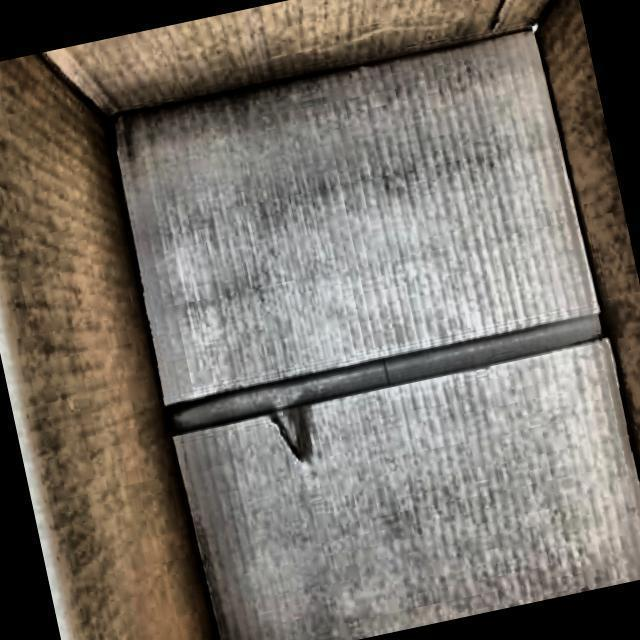cardboard: (169, 335, 640, 640)
